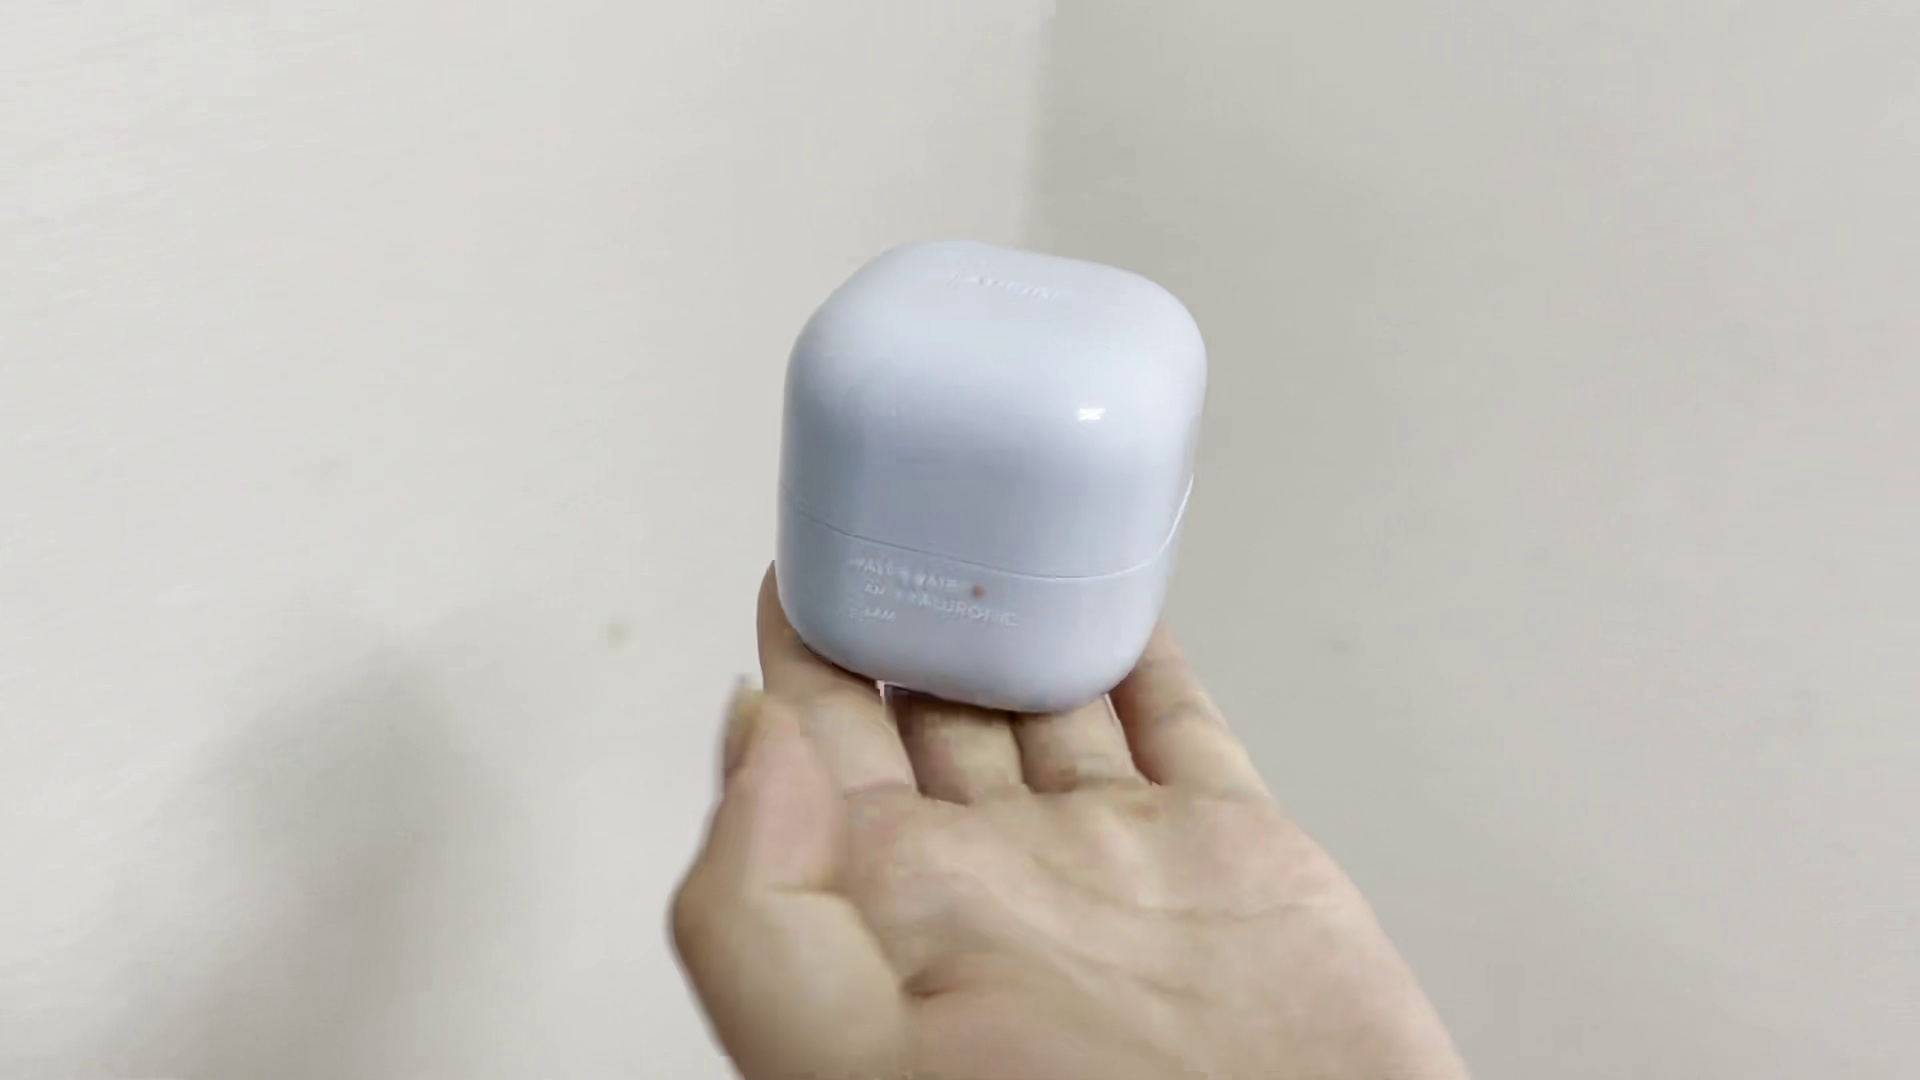cream: (778, 247, 1204, 704)
